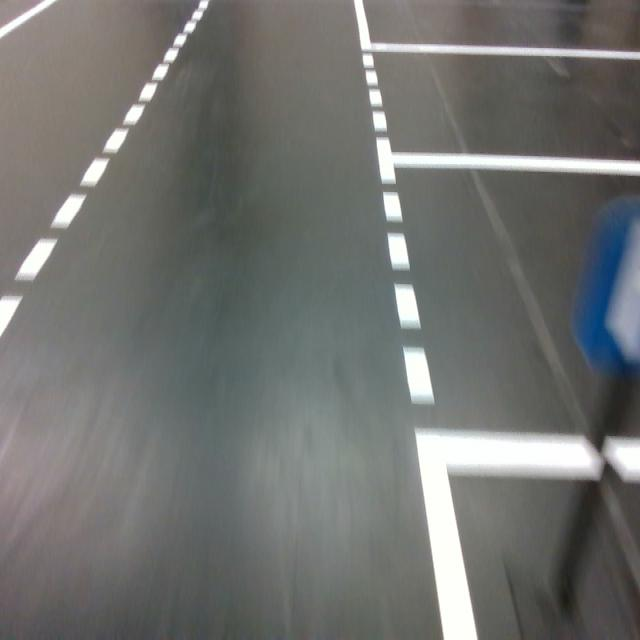parking-sign: (571, 196, 640, 375)
